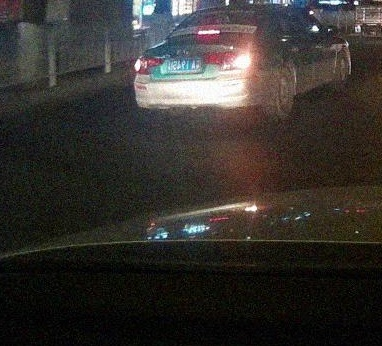L_light: (134, 55, 165, 75)
R_light: (206, 50, 251, 69)
T_light: (197, 30, 220, 34)
night-right: (134, 3, 284, 125)
